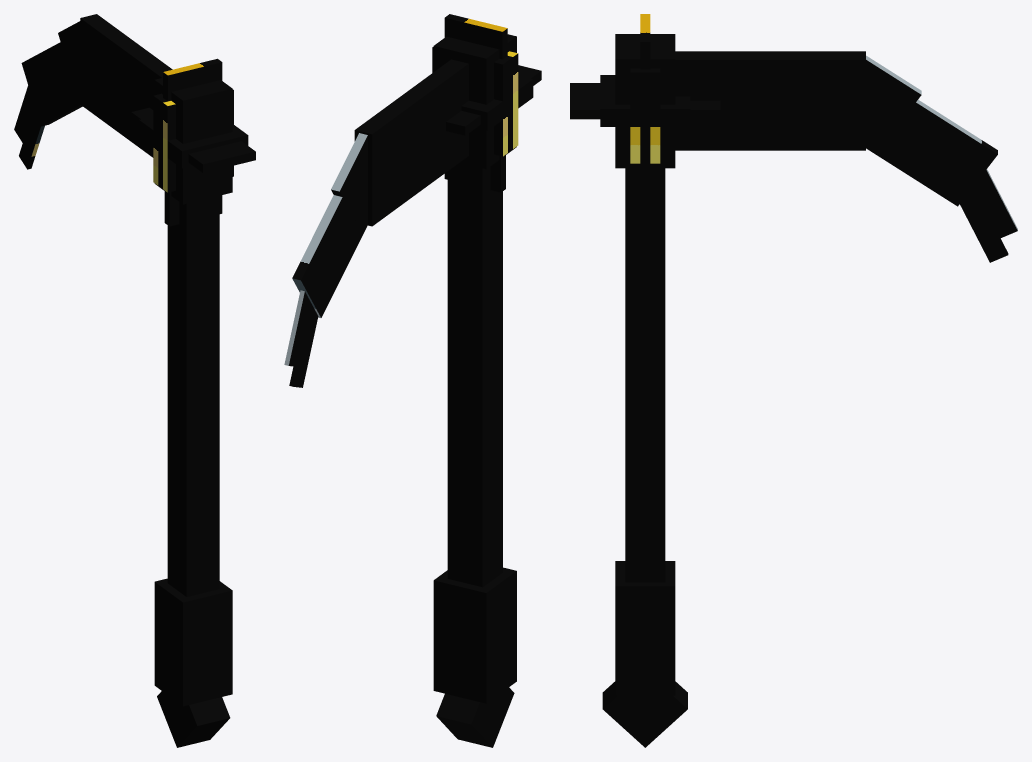
File: scythe.obj
3 views of the same model, side by side, from view 1: azimuth 30°, elevation 25°; view 2: azimuth 150°, elevation 25°; view 3: azimuth 270°, elevation 25° (orthographic). The views are drawn at different scales.
Size of the model in its own units: 0.25 by 2.45 by 1.4.
